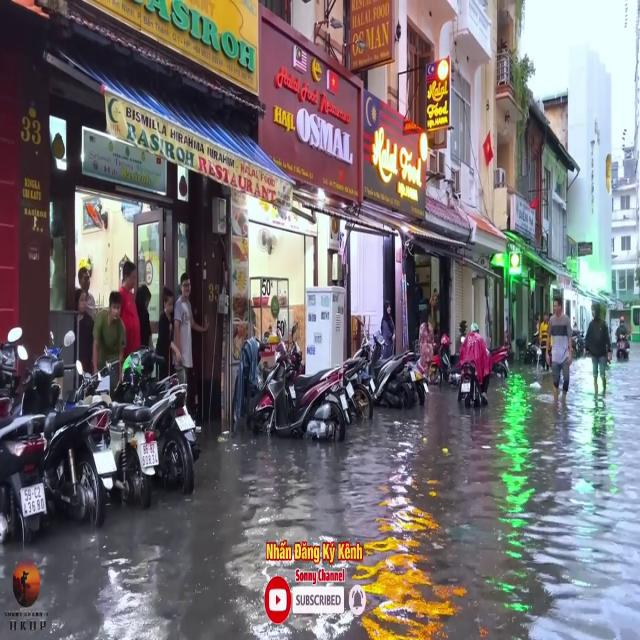bien_trang: (19, 483, 48, 516), (138, 441, 162, 467)
